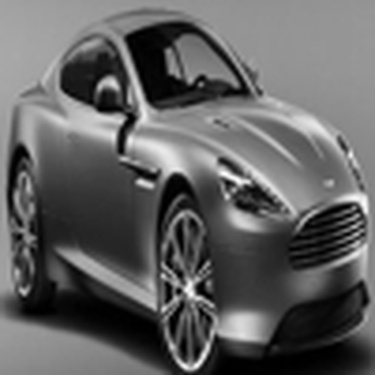car: (5, 5, 368, 370)
